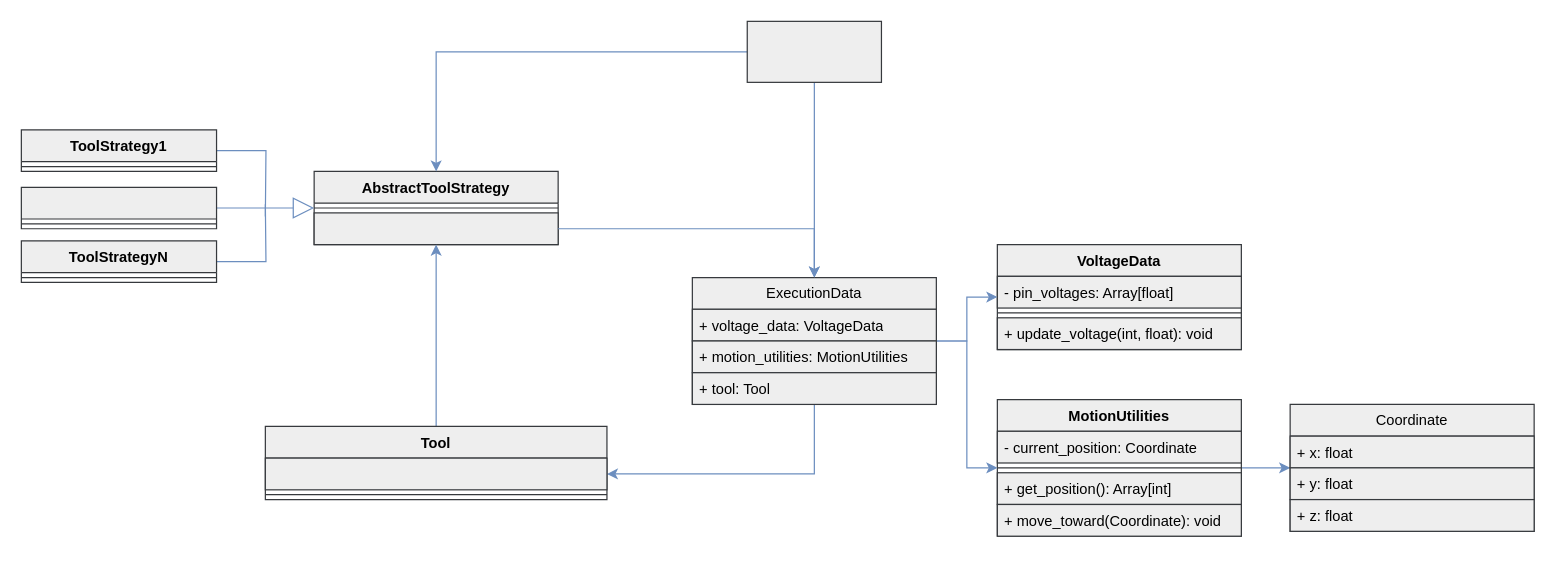
Image size: 1556x561. Some labels were removed from this diagram. The shapes that lost their labels are listed below. From the top down, each one's centre as x and y in pixels, then its label:
the point at 813,51: Client Code
the point at 118,207: ToolStrategy2
the point at 435,228: + execute(ExecutionData): void
the point at 435,473: + valid_strategies: Array[AbstractToolStrategy]
